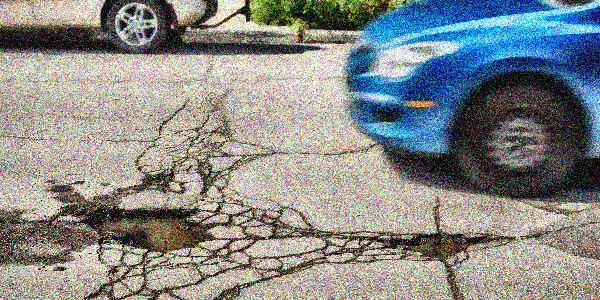pothole: (84, 197, 213, 251), (382, 230, 481, 261)
